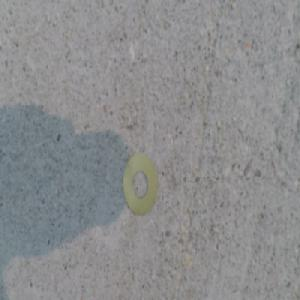Washer: (119, 150, 156, 217)
